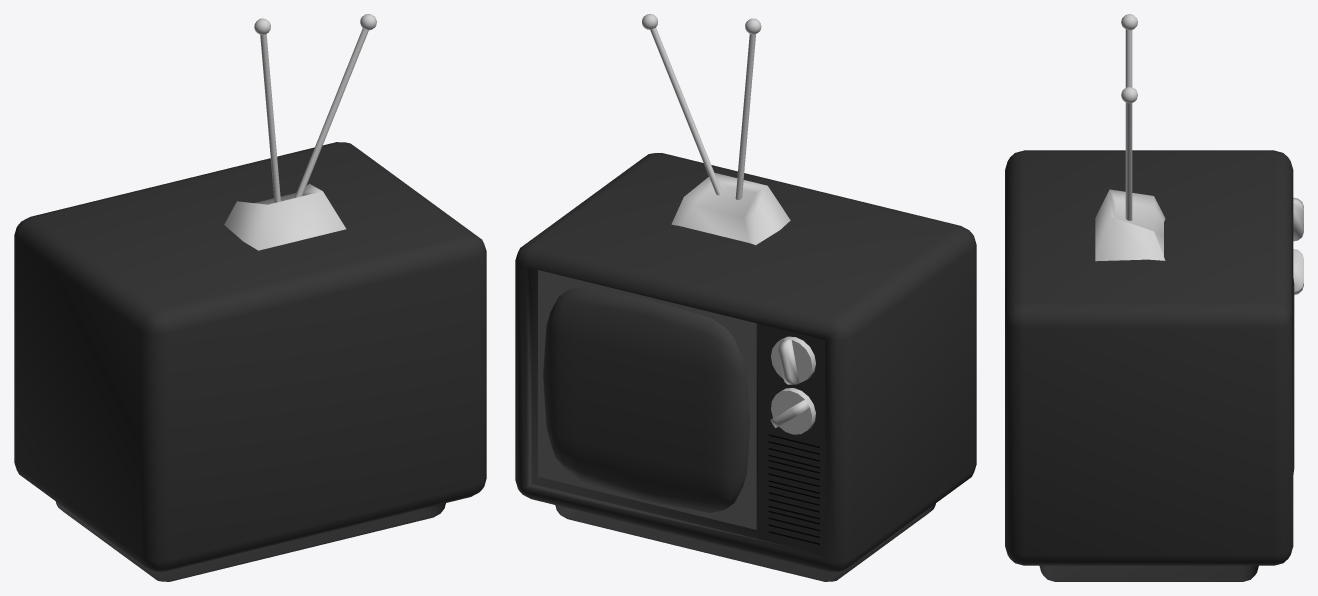
The picture shows the model from 3 angles, left to right: view 1: azimuth 30°, elevation 25°; view 2: azimuth 150°, elevation 25°; view 3: azimuth 270°, elevation 25°; orthographic projection. The views are drawn at different scales.
Visible parts, largest first — view 1: TV; view 2: TV; view 3: TV.
Part boxes in pixels (box(x1,y1,x2,y2)): TV: box(14, 14, 486, 581); TV: box(515, 14, 976, 581); TV: box(1005, 14, 1303, 581).
Size of the model in its own units: 825 by 1154 by 622.
2 materials, 1 textured.
